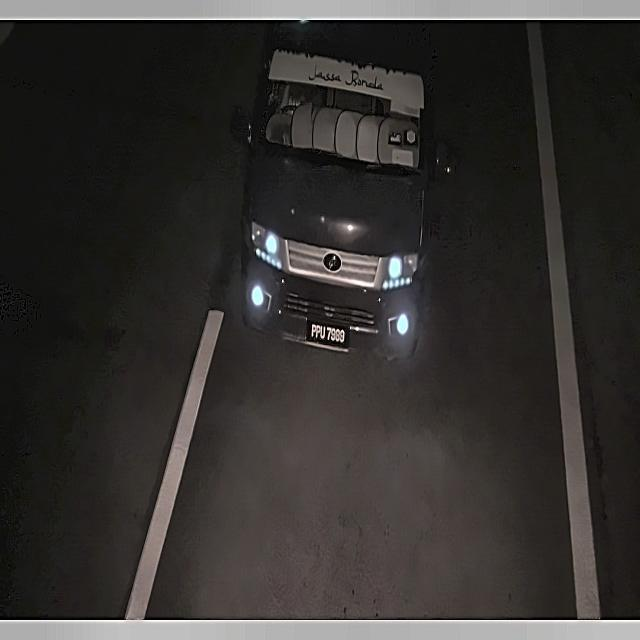car: (296, 312, 360, 359)
